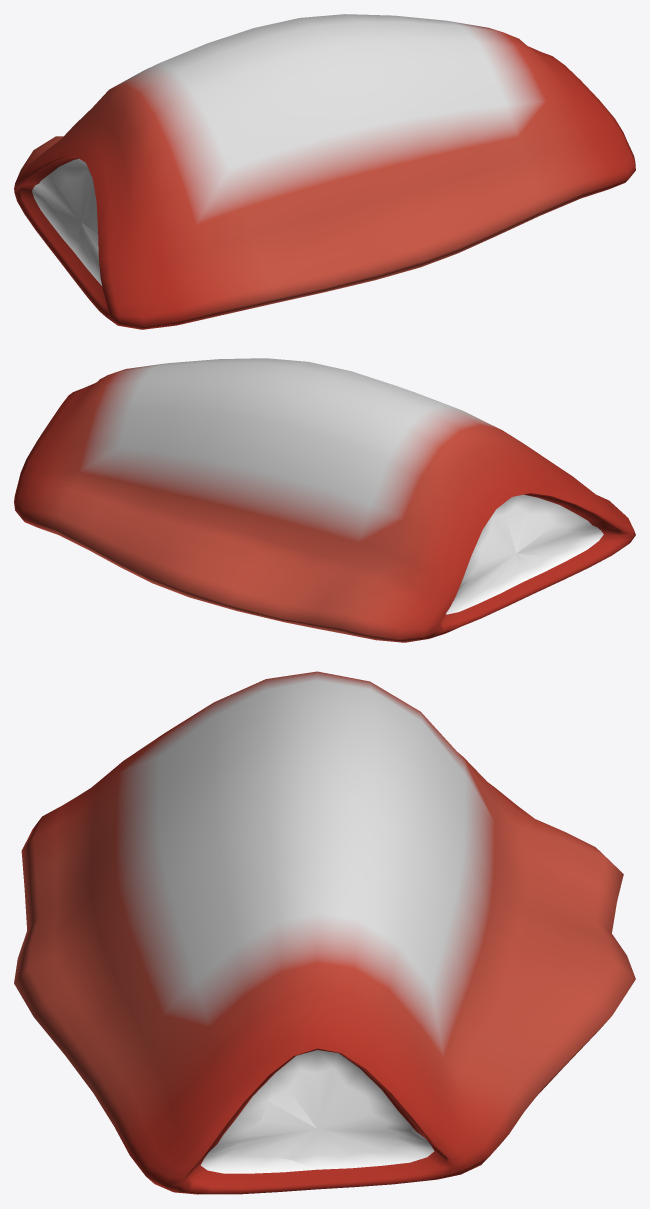
File: RAW_wing.fbx
3 renders of one model, top to bottom at view 1: azimuth 30°, elevation 25°; view 2: azimuth 150°, elevation 25°; view 3: azimuth 270°, elevation 25°, orthographic. The views are drawn at different scales.
Visible parts, largest first — view 1: RAW_wing; view 2: RAW_wing; view 3: RAW_wing.
Boxes of the visible parts, <box> form: RAW_wing: <box>14,14,635,329</box>; RAW_wing: <box>14,358,635,642</box>; RAW_wing: <box>14,671,635,1194</box>.
Bounding box in the file's own units: 0.064 × 0.02 × 0.044.
